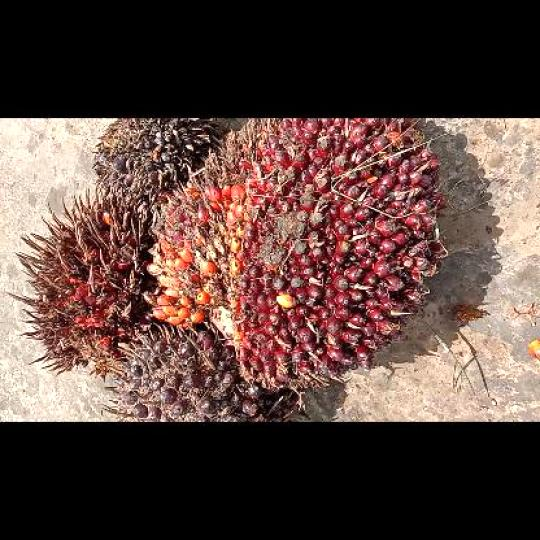kurang masak: (105, 324, 305, 421)
masak: (143, 119, 446, 387)
terlalu masak: (4, 189, 154, 372)
